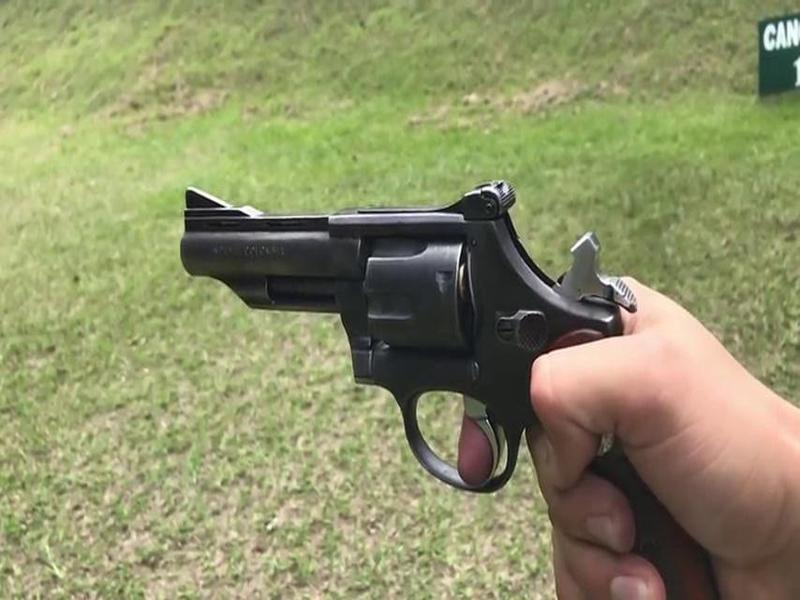Revolver: (172, 154, 651, 595)
